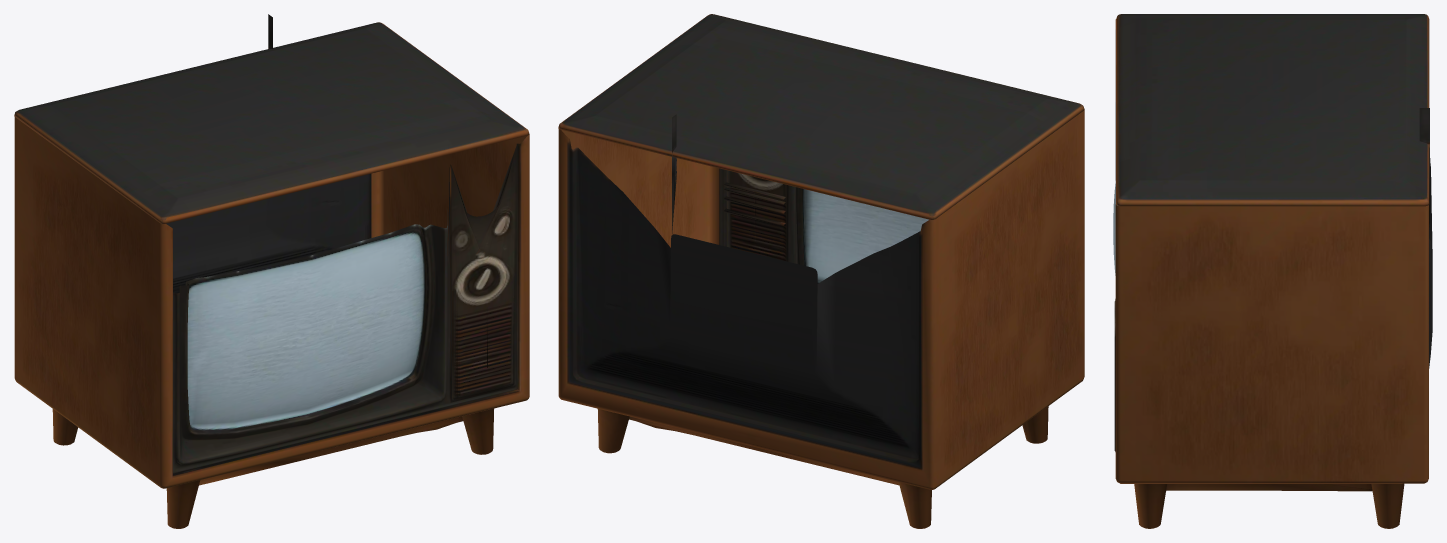
Rendered from Electronics__crt_television_realistic_style_568f1725_v4.cluster.glb.
3 renders of one model, left to right at view 1: azimuth 30°, elevation 25°; view 2: azimuth 150°, elevation 25°; view 3: azimuth 270°, elevation 25°, orthographic. The views are drawn at different scales.
Visible parts, largest first — view 1: mesh_input; view 2: mesh_input; view 3: mesh_input.
Part boxes in pixels (left/top/right/bottom): mesh_input: left=14, top=14, right=529, bottom=528; mesh_input: left=558, top=14, right=1084, bottom=528; mesh_input: left=1113, top=14, right=1432, bottom=528.
Bounding box in the file's own units: 1.9 × 1.76 × 1.36.
Materials: 1 (1 with a texture image).
